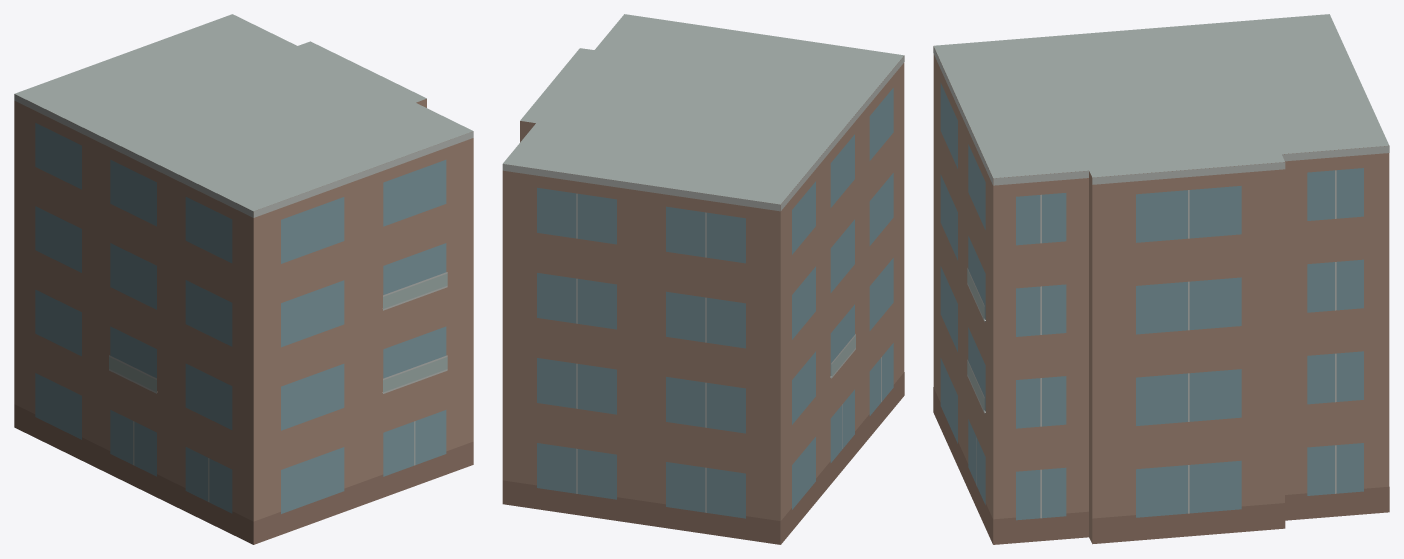
Rendered from survey-upis-32707335.glb.
The picture shows the model from 3 angles, left to right: view 1: azimuth 30°, elevation 25°; view 2: azimuth 150°, elevation 25°; view 3: azimuth 270°, elevation 25°; orthographic projection. The views are drawn at different scales.
Parts seen in each view (by area): view 1: survey-upis-32707335.tmp; view 2: survey-upis-32707335.tmp; view 3: survey-upis-32707335.tmp.
Part boxes in pixels (left/top/right/bottom): survey-upis-32707335.tmp: left=14, top=14, right=473, bottom=544; survey-upis-32707335.tmp: left=502, top=14, right=904, bottom=544; survey-upis-32707335.tmp: left=933, top=14, right=1389, bottom=544.
Size of the model in its own units: 11.74 by 12.2 by 13.77.
